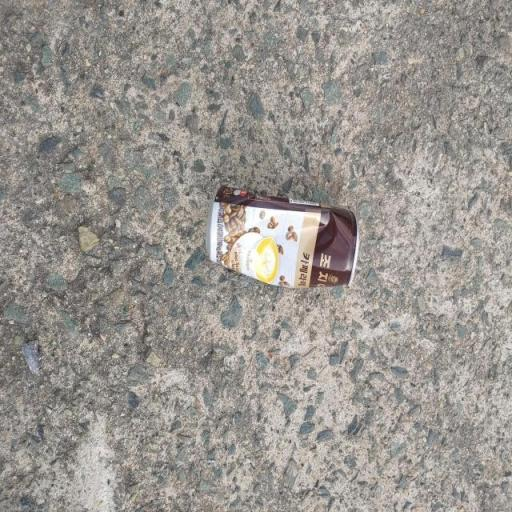metal: (191, 164, 370, 310)
